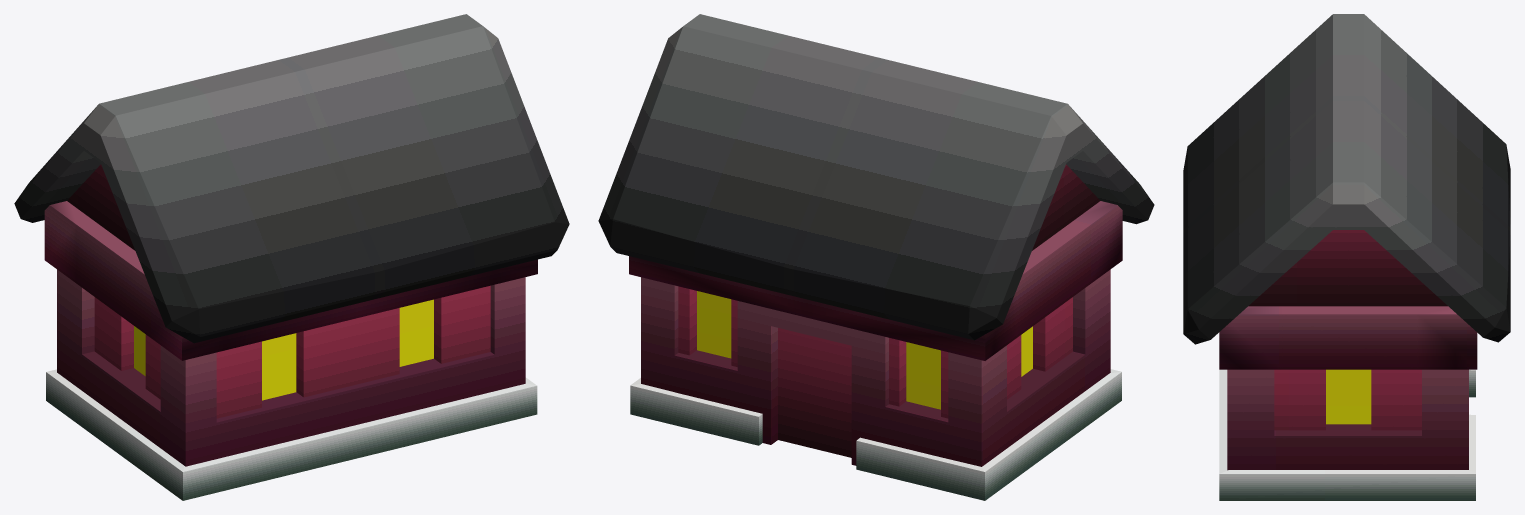
Rendered from house_1.fbx.
3 views of the same model, side by side, from view 1: azimuth 30°, elevation 25°; view 2: azimuth 150°, elevation 25°; view 3: azimuth 270°, elevation 25° (orthographic). The views are drawn at different scales.
Parts seen in each view (by area): view 1: farm_house_lvl2; view 2: farm_house_lvl2; view 3: farm_house_lvl2.
Part boxes in pixels (x1,y1,x2,y2): farm_house_lvl2: (14,14,569,500); farm_house_lvl2: (598,14,1154,500); farm_house_lvl2: (1183,14,1510,500).
Size of the model in its own units: 181 by 149 by 138.
